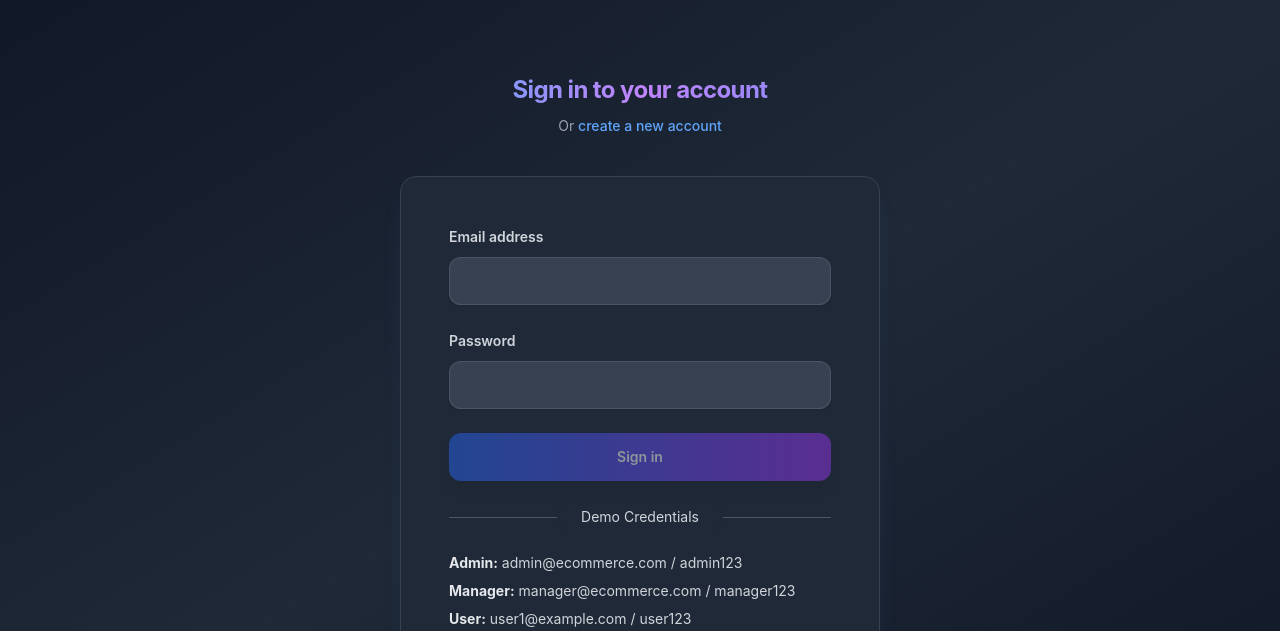
it: Authentication Flow › Login Page › should show validation errors for empty fields
Focus the field with test id "email-input" at {"x": 640, "y": 281}, box x1=449 y1=257 x2=831 y2=305
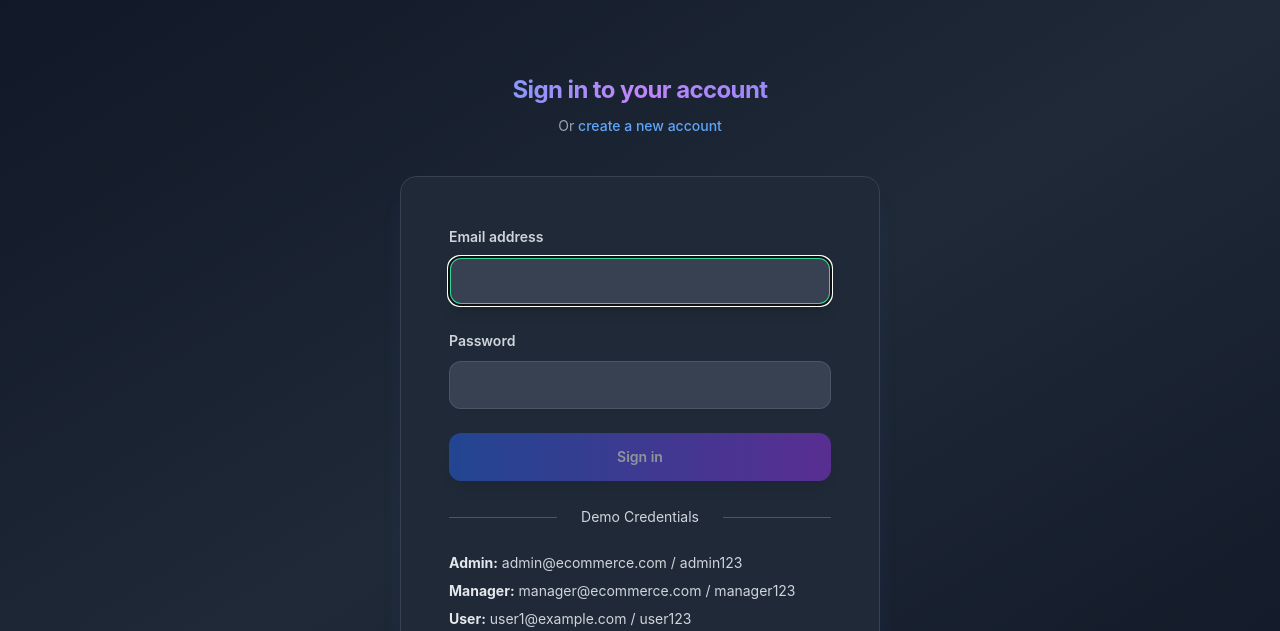
Leave the field with test id "email-input", box x1=449 y1=257 x2=831 y2=305
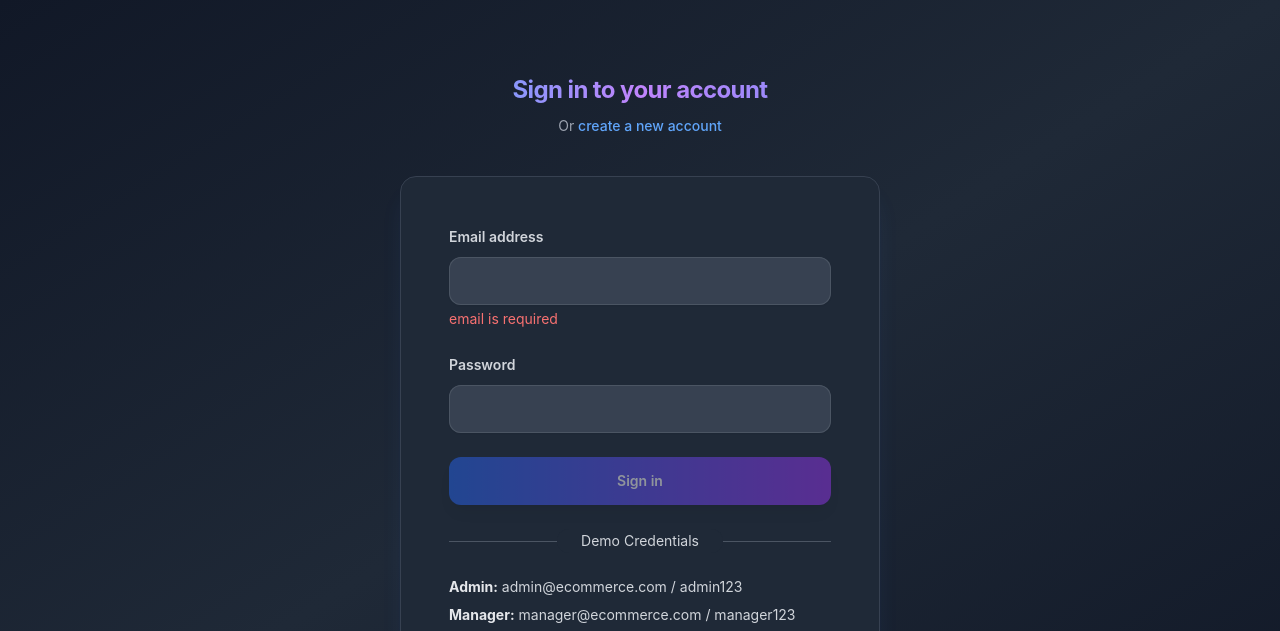
Focus the password field with test id "password-input" at {"x": 640, "y": 409}, box x1=449 y1=385 x2=831 y2=433
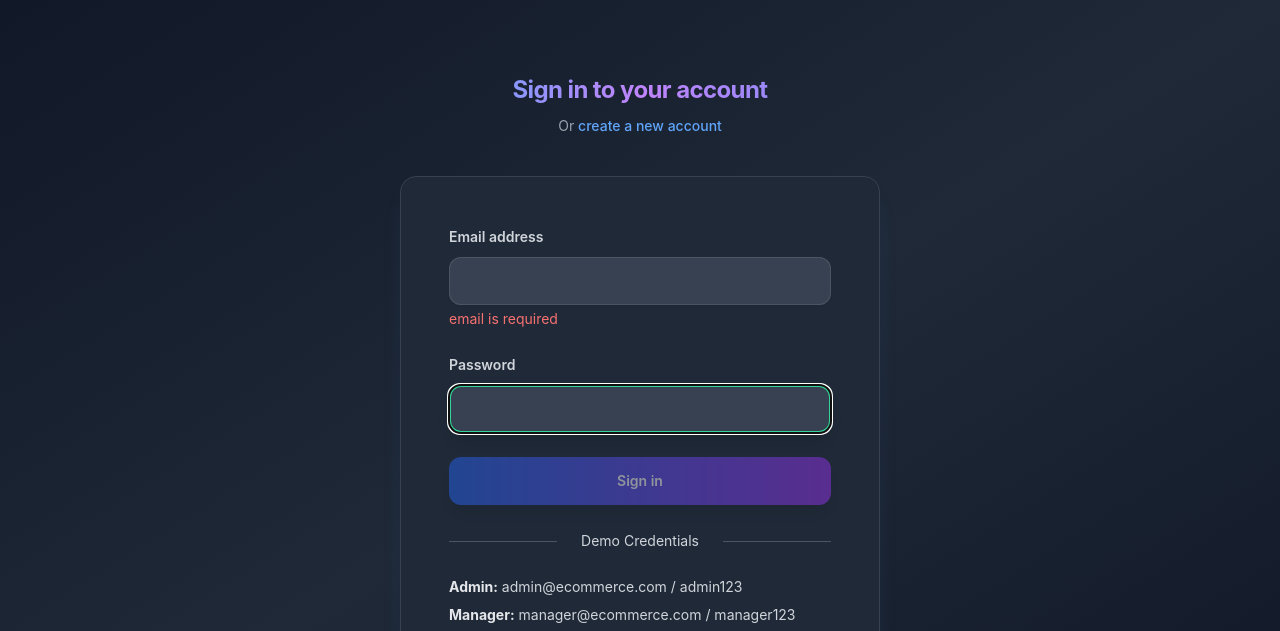
Leave the password field with test id "password-input", box x1=449 y1=385 x2=831 y2=433
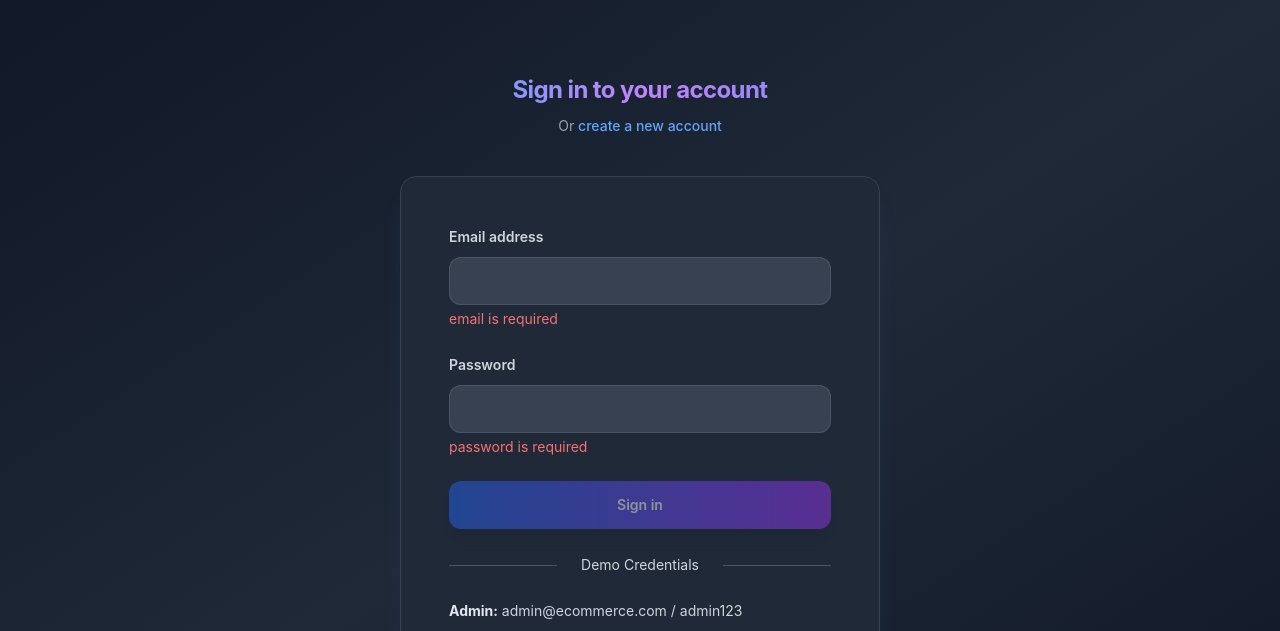
Expected: the text with test id "email-error" reads "email is required", x1=449 y1=310 x2=558 y2=327
Expected: the text with test id "password-error" reads "password is required", x1=449 y1=438 x2=587 y2=455
